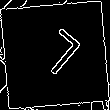L_SW: (26, 26, 84, 84)
